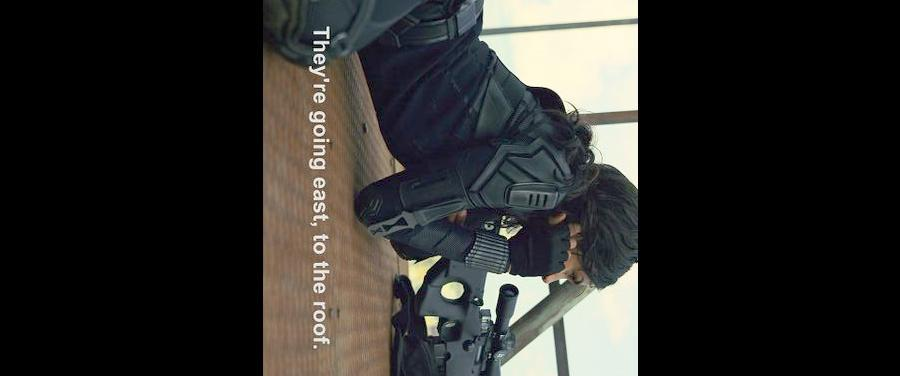gun: (373, 213, 519, 376)
